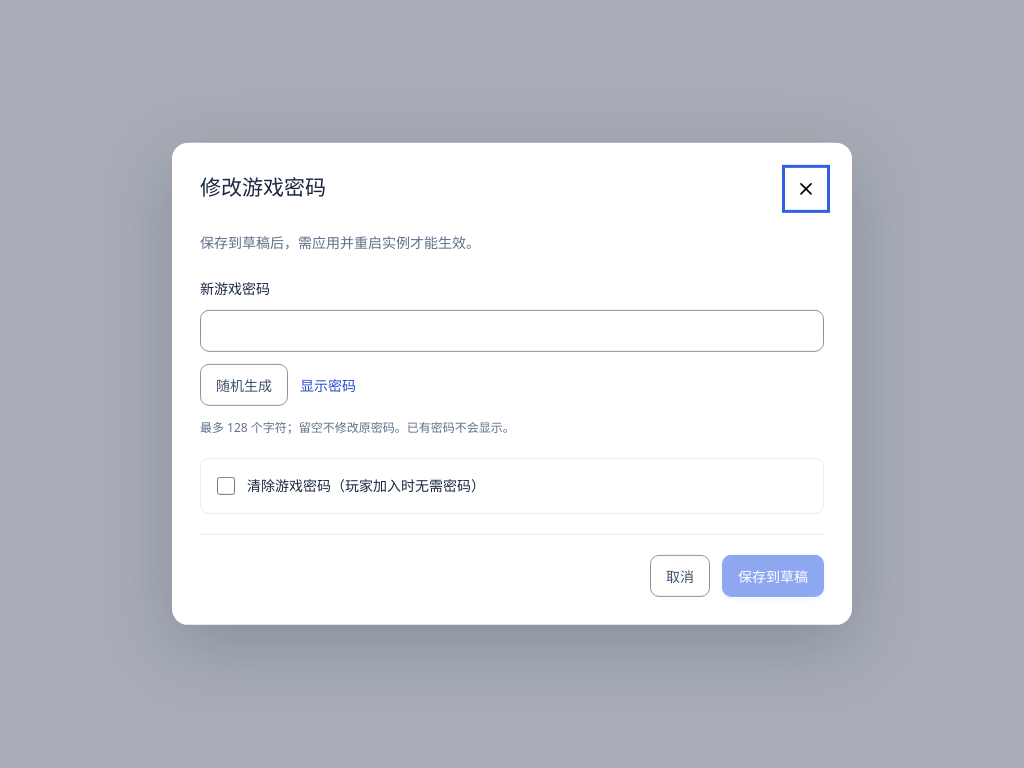
清除必须显式选择，随机生成恢复可编辑，失败保留输入并显示错误
This screenshot has width=1024, height=768.
Click the checkbox at (226, 486), box [217,477,235,495]
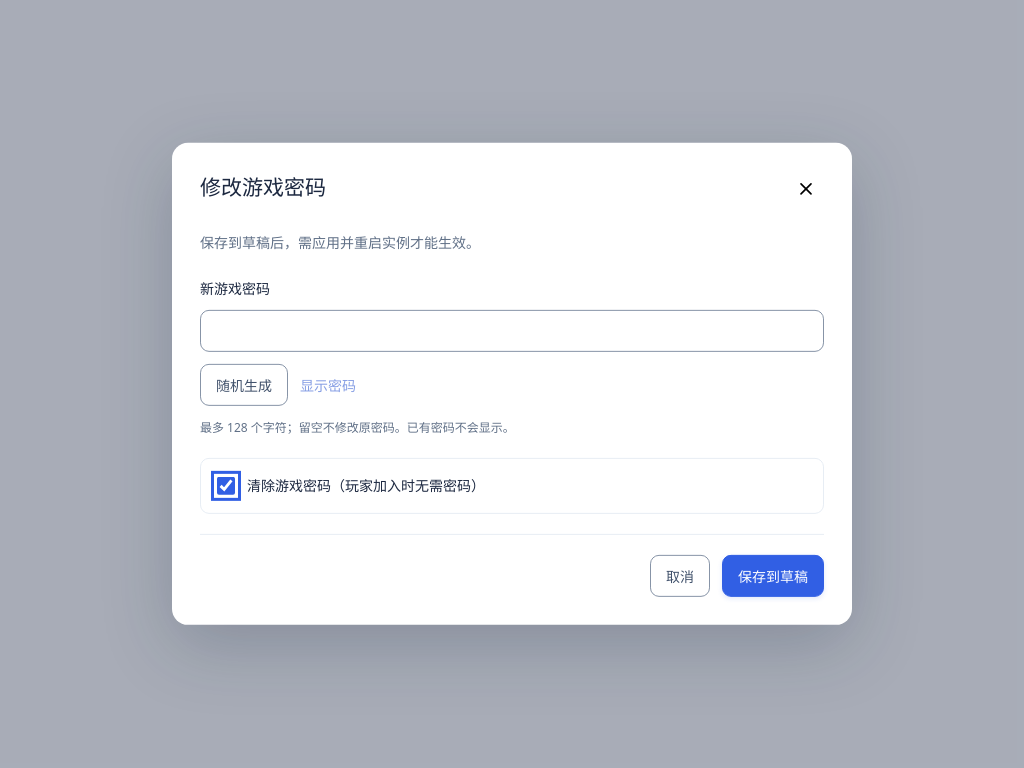
Check: the password field labelled "新游戏密码" is disabled, box [200,310,824,352]
Click the button "保存到草稿" at (773, 576), box [722,555,824,597]
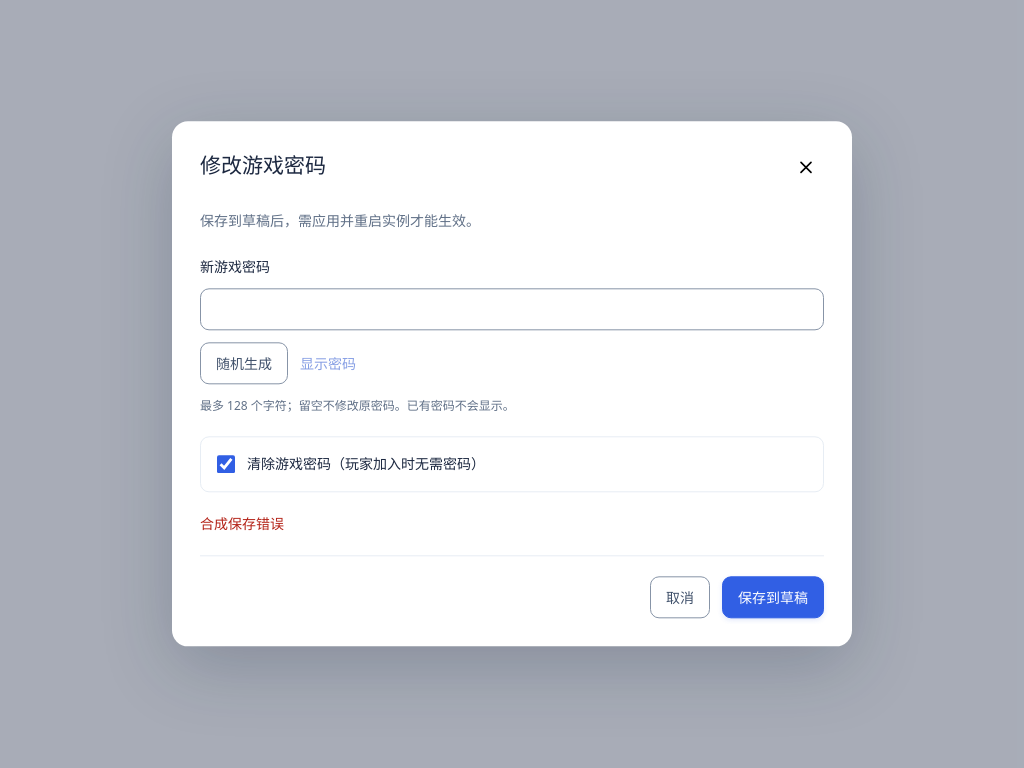
Click the button "随机生成" at (244, 363), box [200,342,288,384]
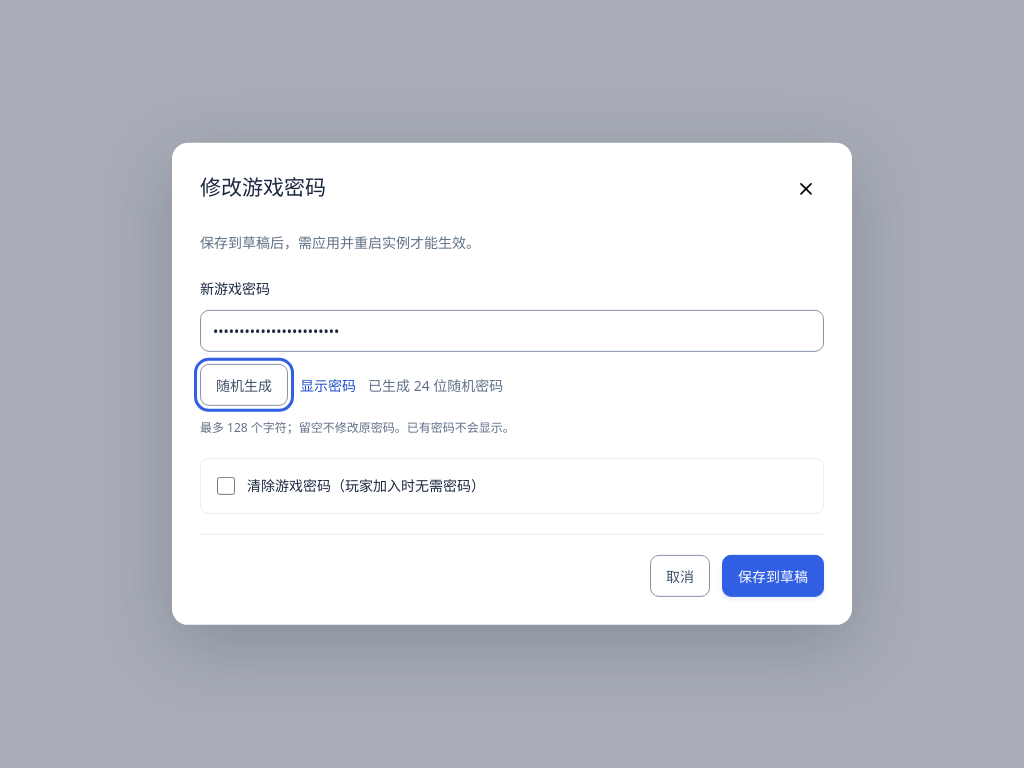
Check: the password field labelled "新游戏密码" is enabled, box [200,310,824,352]
Click the button "保存到草稿" at (773, 576), box [722,555,824,597]
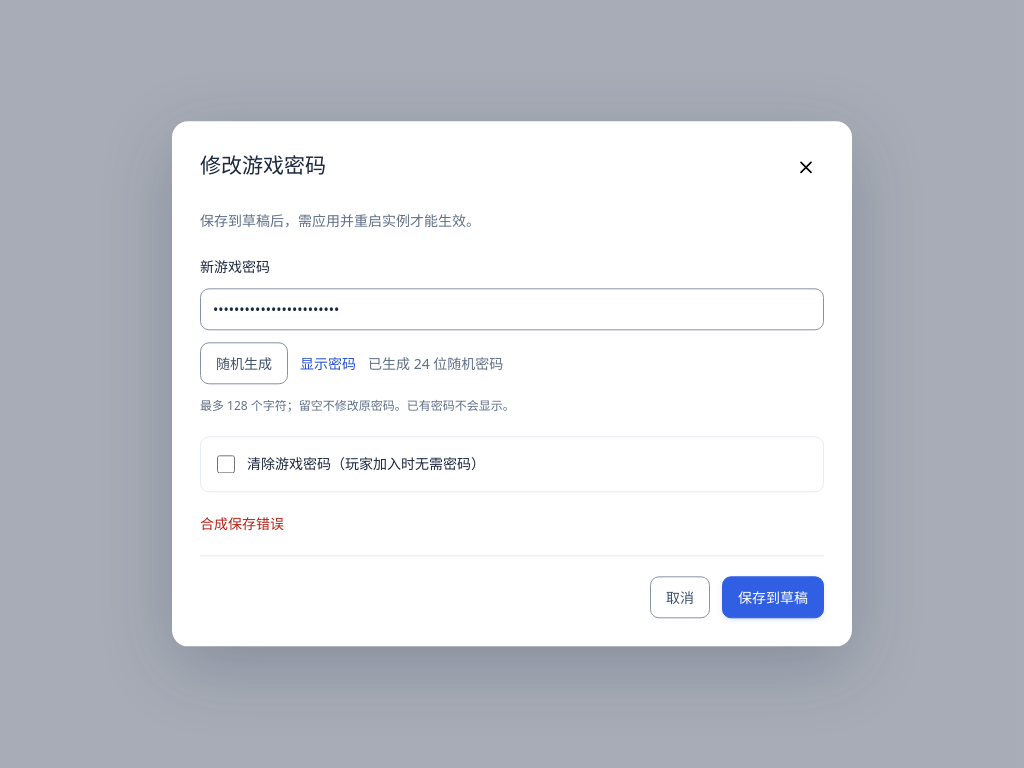
Check: the message "合成保存错误" is shown, box [200,515,284,534]
